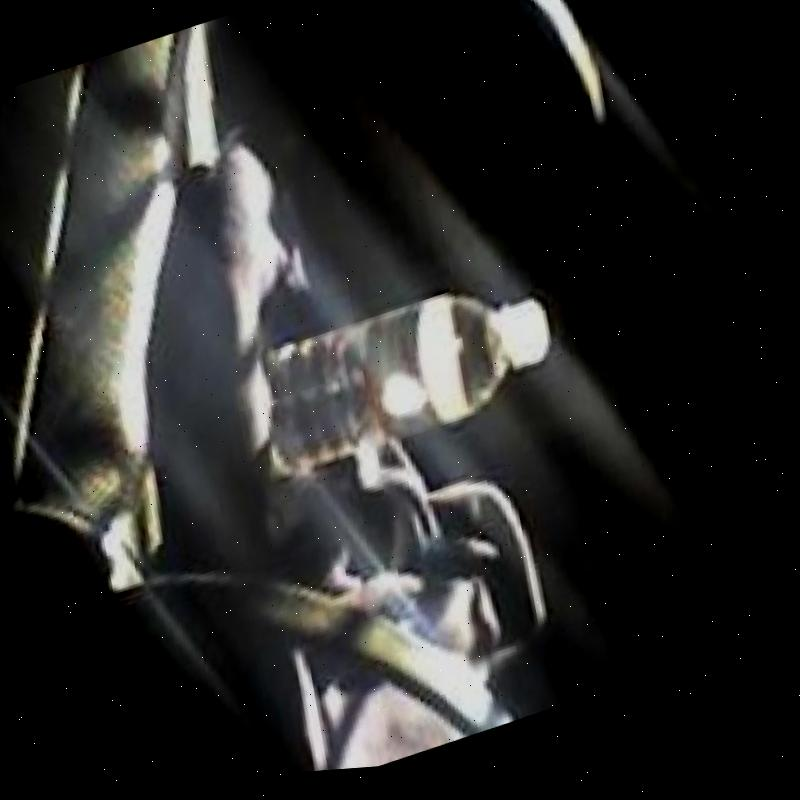botella: (255, 263, 576, 489)
